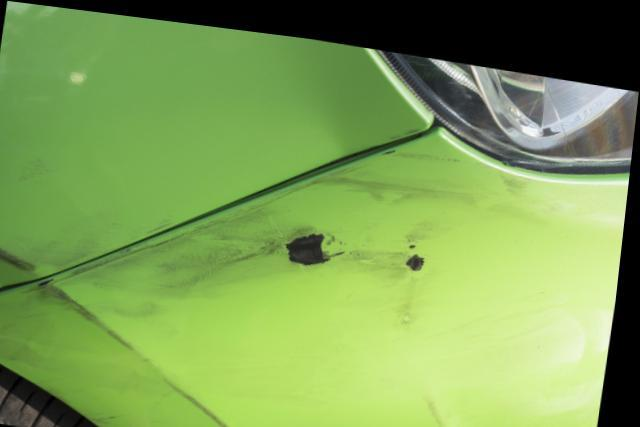scratch: (26, 135, 527, 427), (0, 203, 128, 271)
